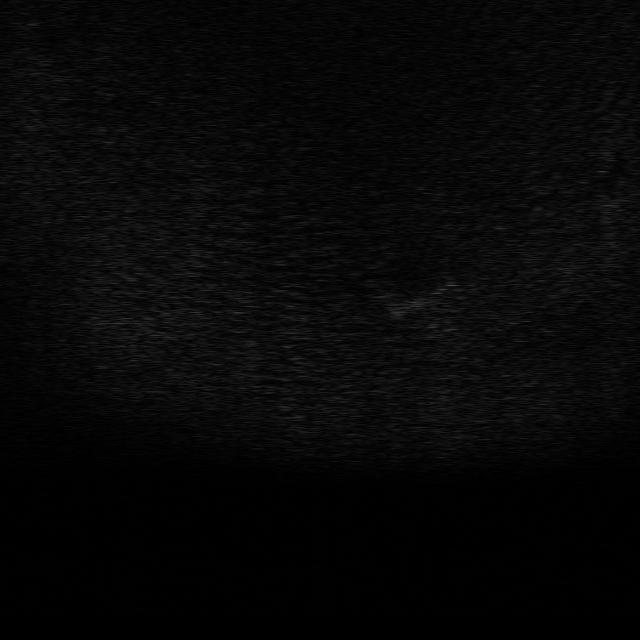plane: (382, 272, 458, 316)
